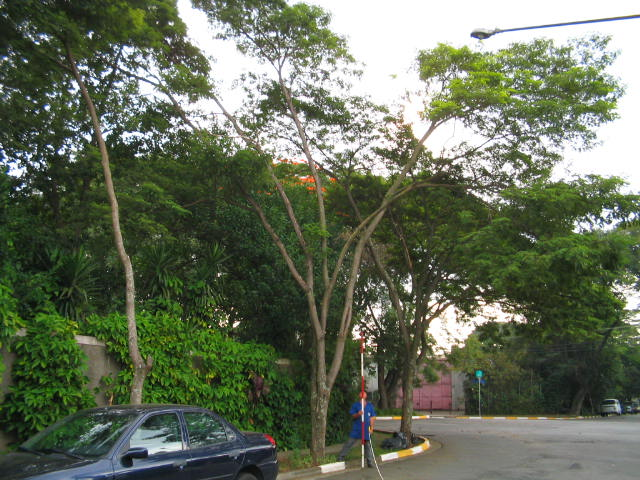stem: (302, 386, 336, 463)
stick: (355, 330, 368, 469)
tree: (193, 1, 629, 464)
